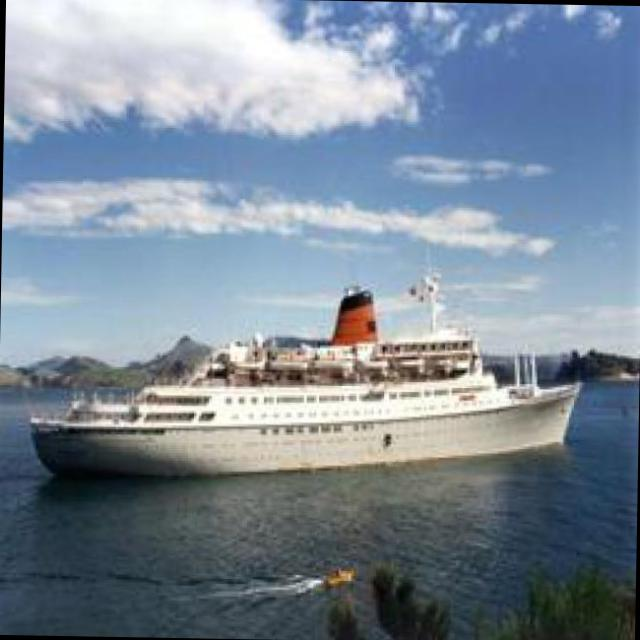boat: (18, 337, 582, 471)
